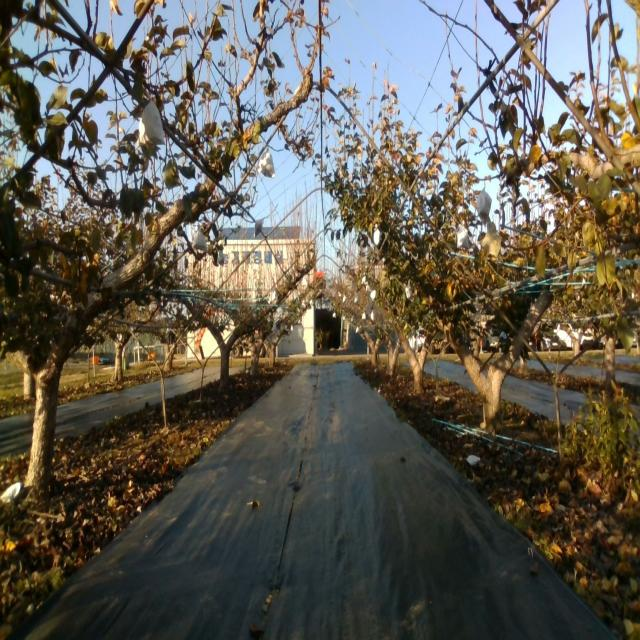pearbags: (139, 102, 167, 146), (257, 149, 275, 180), (476, 190, 492, 224), (191, 229, 209, 253), (457, 226, 469, 249)
